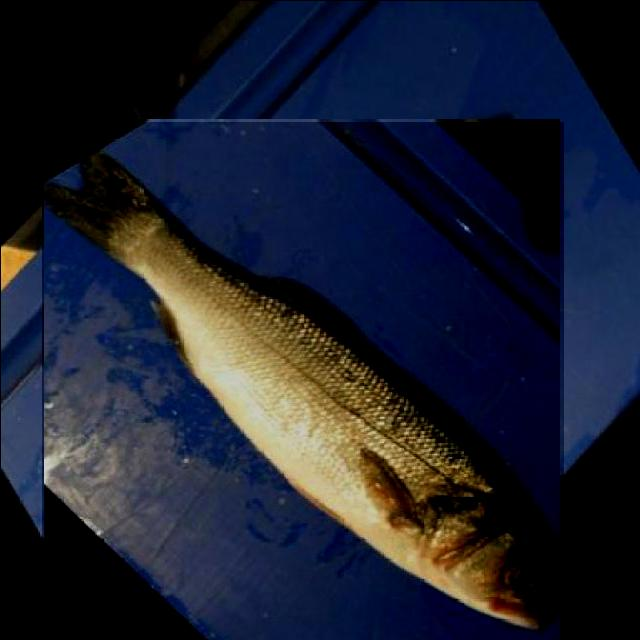Healthy Fish: (41, 121, 563, 640)
